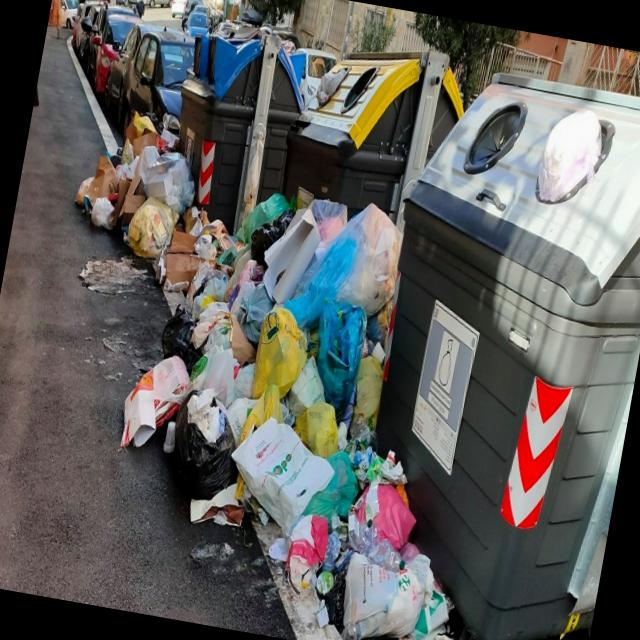garbage: (4, 88, 564, 640)
